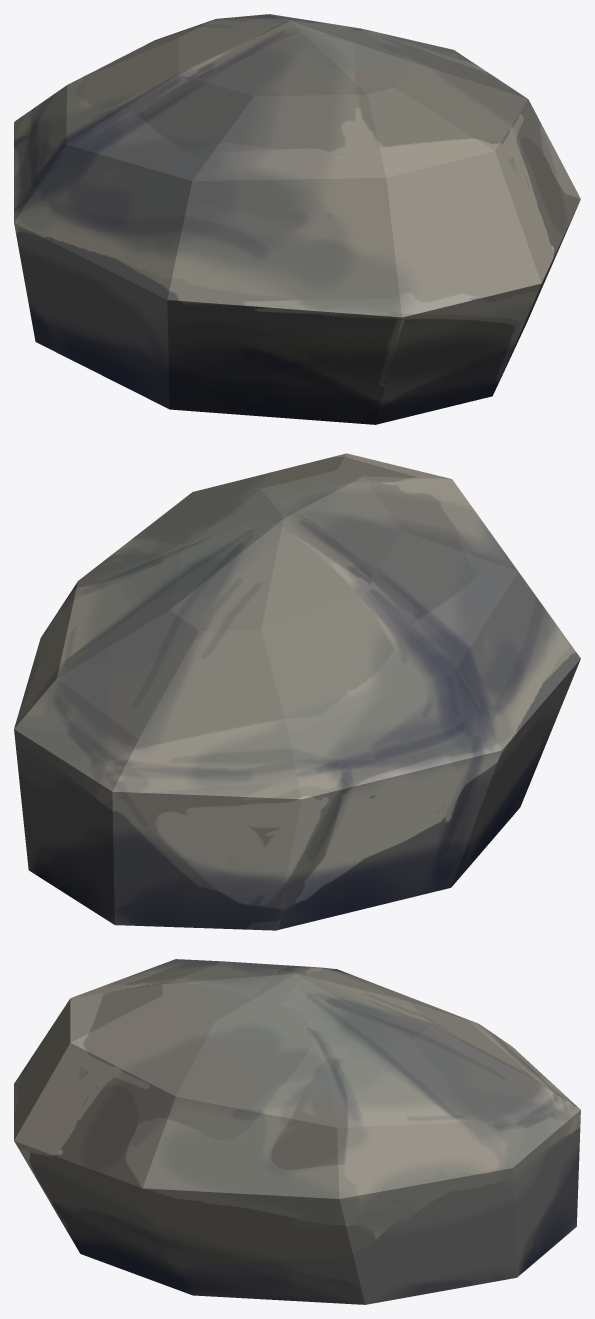
Rendered from pedrolo_2.fbx.
3 views of the same model, one above another, from view 1: azimuth 30°, elevation 25°; view 2: azimuth 150°, elevation 25°; view 3: azimuth 270°, elevation 25° (orthographic). The views are drawn at different scales.
Visible parts, largest first — view 1: Cylinder.003; view 2: Cylinder.003; view 3: Cylinder.003.
Boxes of the visible parts, bbox=[...] form: Cylinder.003: bbox=[14, 14, 580, 424]; Cylinder.003: bbox=[14, 453, 580, 930]; Cylinder.003: bbox=[14, 959, 580, 1304].
Size of the model in its own units: 627 by 376 by 772.
1 material, 1 textured.
